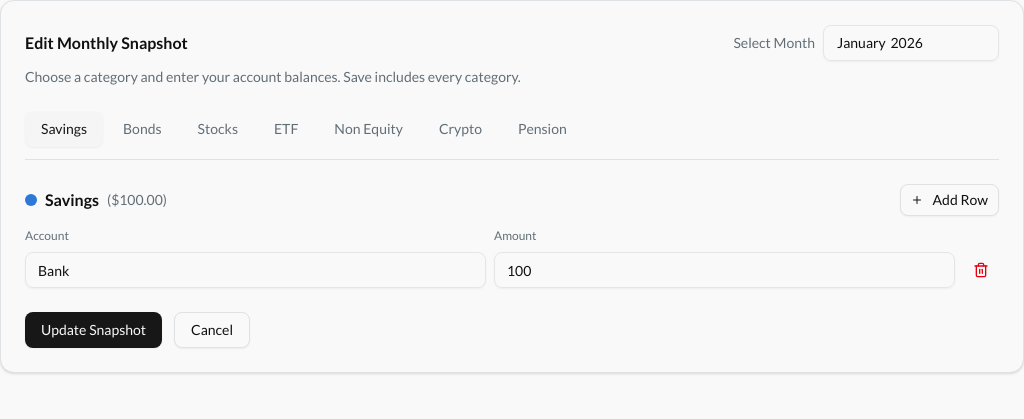
it: retains two-decimal native amount validation across category navigation
Click the button "Stocks" at {"x": 218, "y": 129}, box [182, 111, 254, 147]
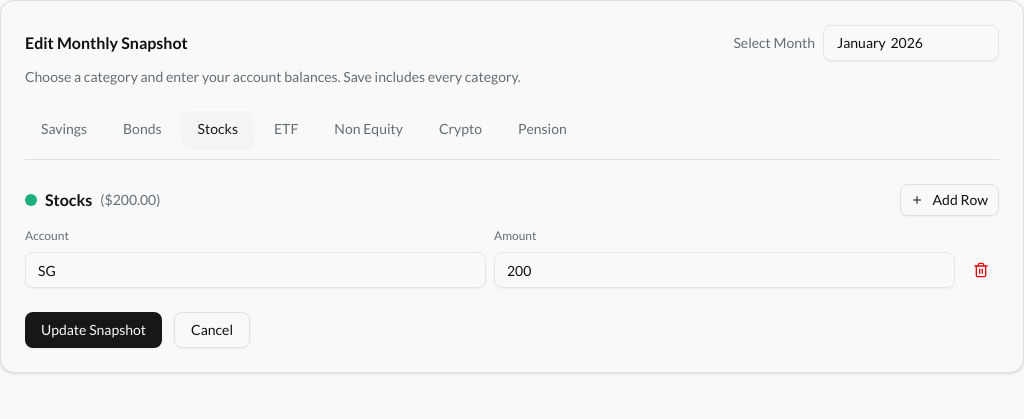
Replace the text in the number field with "12.345" at {"x": 724, "y": 270}, box [494, 252, 955, 288]
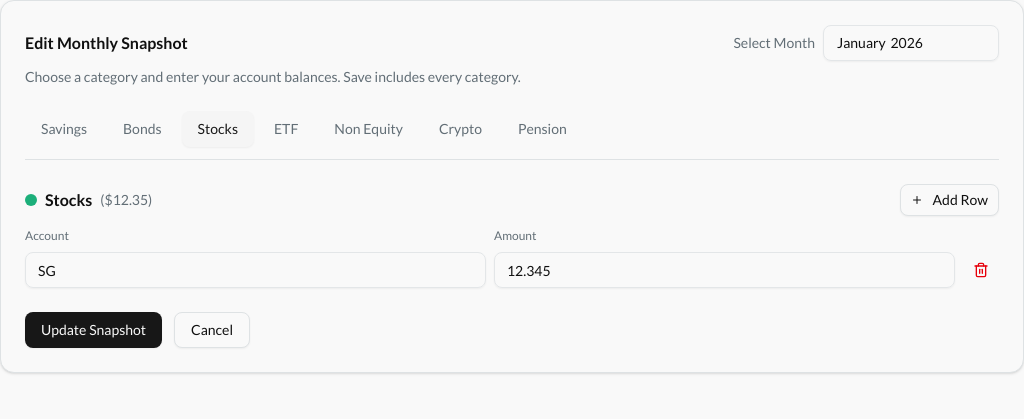
Click the button "Savings" at {"x": 64, "y": 129}, box [25, 111, 103, 147]
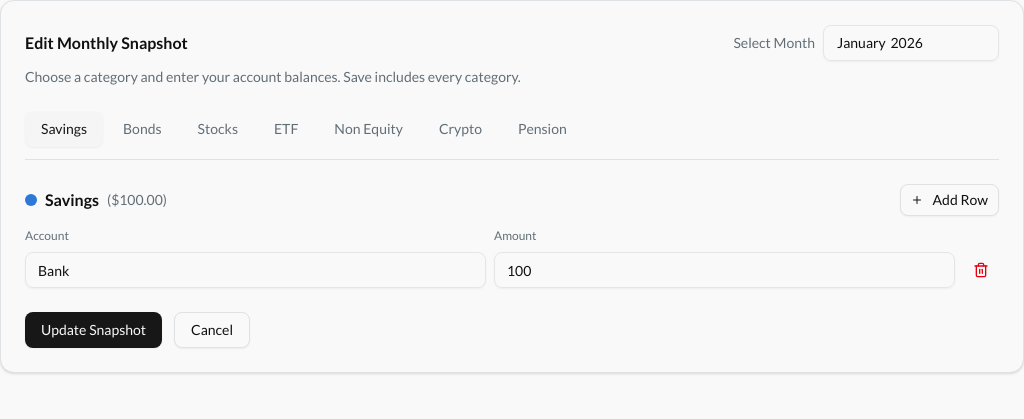
Click the button "Update Snapshot" at {"x": 94, "y": 330}, box [25, 312, 162, 348]
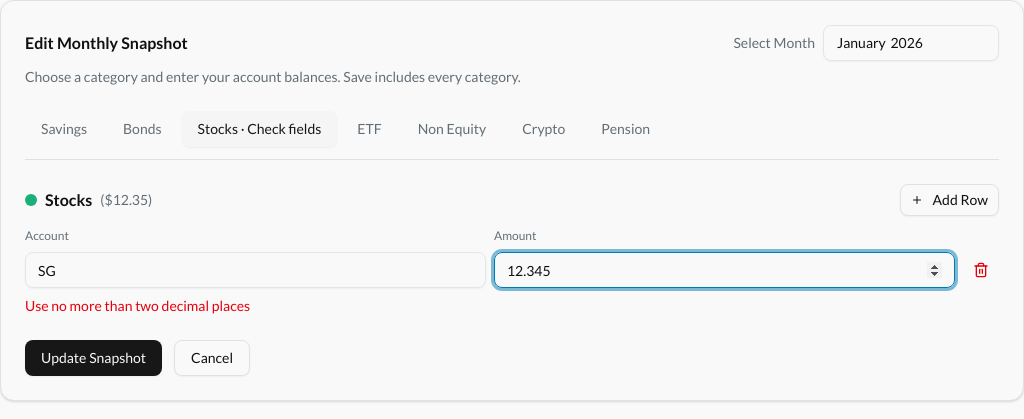
Expected: the text "Use no more than two decimal places" is shown, [25, 297, 250, 314]
